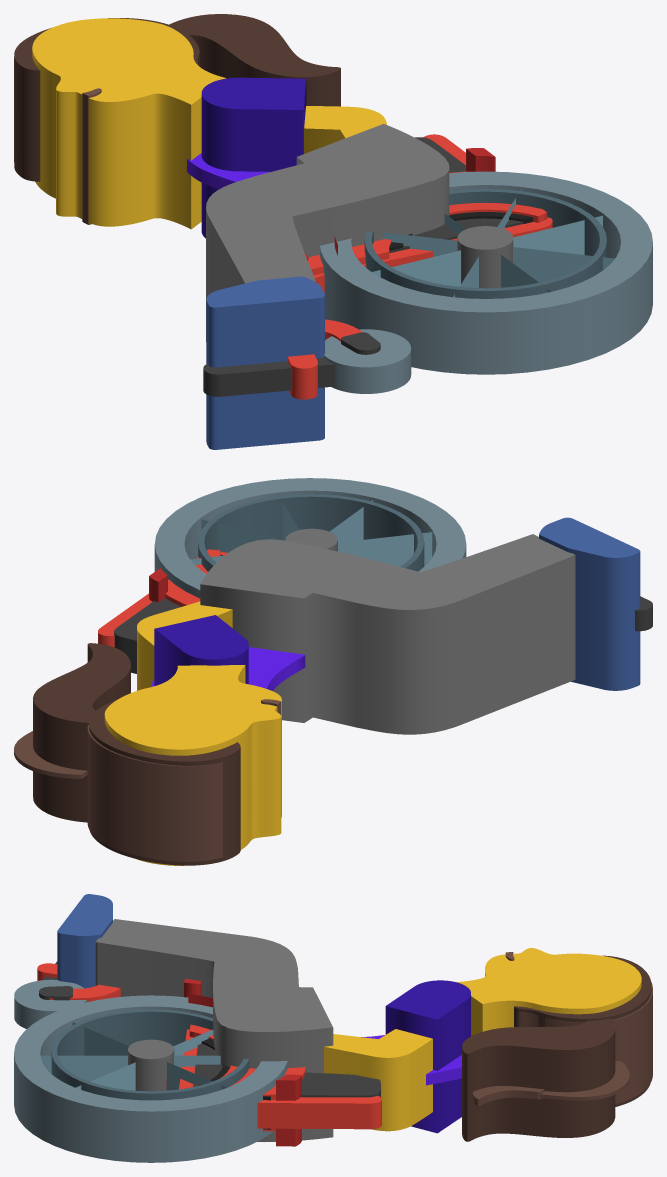
Rendered from emoji_u1f469_200d_1f9bd.glb.
The picture shows the model from 3 angles, top to bottom: view 1: azimuth 30°, elevation 25°; view 2: azimuth 150°, elevation 25°; view 3: azimuth 270°, elevation 25°; orthographic projection. The views are drawn at different scales.
Parts seen in each view (by area): view 1: emoji_u1f469_200d_1f9bd; view 2: emoji_u1f469_200d_1f9bd; view 3: emoji_u1f469_200d_1f9bd.
Part boxes in pixels (x1=…): emoji_u1f469_200d_1f9bd: x1=14, y1=14, x2=652, y2=449; emoji_u1f469_200d_1f9bd: x1=14, y1=478, x2=652, y2=865; emoji_u1f469_200d_1f9bd: x1=14, y1=894, x2=652, y2=1162.
Bounding box in the file's own units: 0.022 × 0.0064 × 0.0316.
